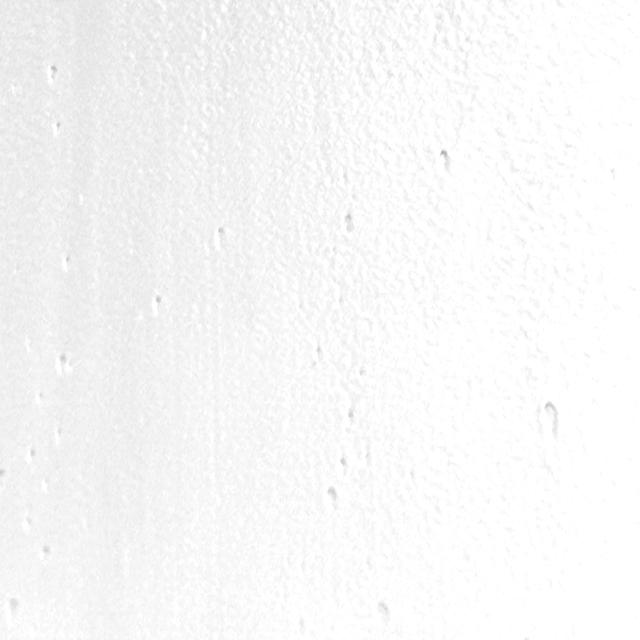pin holes: (538, 400, 562, 440), (372, 598, 394, 628), (209, 224, 230, 253), (3, 596, 23, 626), (435, 150, 455, 178), (53, 352, 73, 380), (321, 488, 341, 515), (339, 212, 357, 238), (148, 292, 166, 318), (309, 344, 327, 367), (334, 456, 351, 480), (44, 62, 60, 86), (24, 444, 40, 466), (342, 408, 356, 430), (20, 514, 35, 534), (38, 544, 52, 563), (59, 254, 71, 273), (51, 120, 63, 138), (355, 365, 369, 380), (53, 428, 63, 446), (33, 388, 42, 408)
